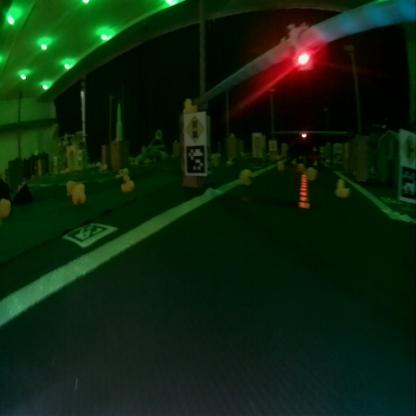Duckie: (336, 180, 350, 196), (184, 98, 198, 112), (72, 185, 82, 203), (121, 176, 133, 188), (239, 169, 250, 182), (306, 167, 316, 179)
QR code: (67, 222, 116, 247), (186, 144, 206, 174), (398, 166, 414, 200)
Signal sign: (184, 115, 204, 142)
Traffic light: (290, 25, 313, 69), (300, 130, 306, 139)
